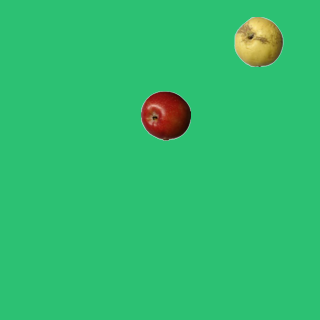Apple Braeburn: (140, 90, 190, 140)
Apple Golden 1: (233, 16, 283, 66)
